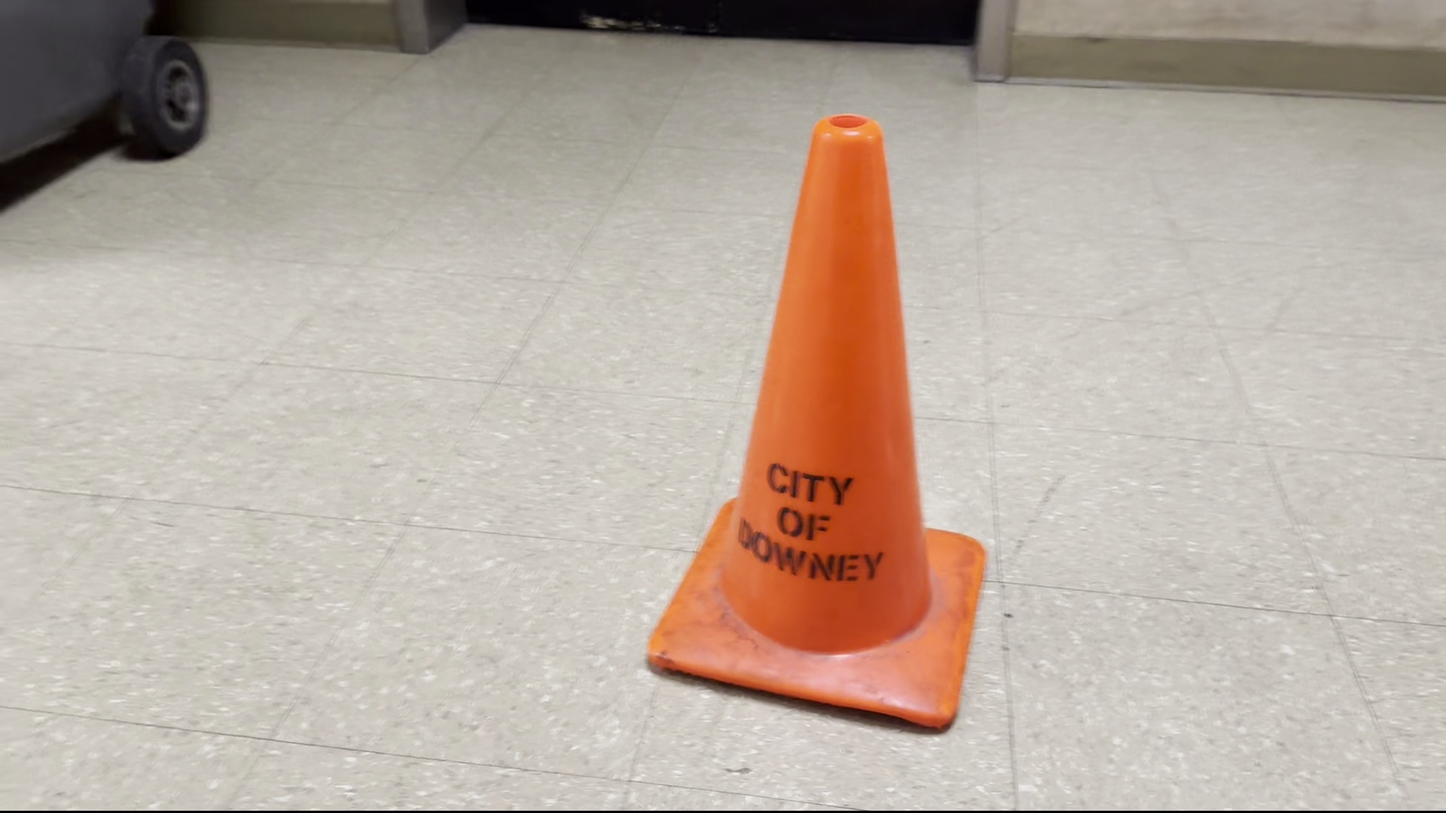traffic_cone: (646, 112, 988, 730)
